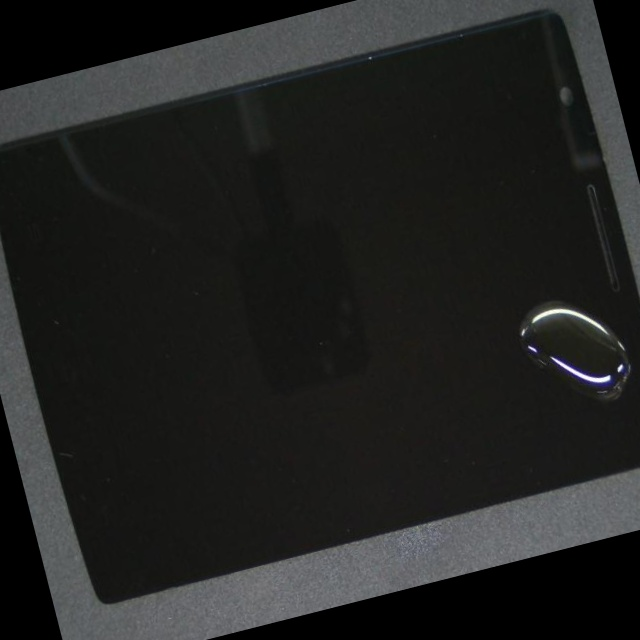oil: (161, 67, 640, 623)
